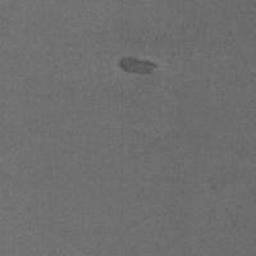Inclusion: (118, 54, 159, 78)
